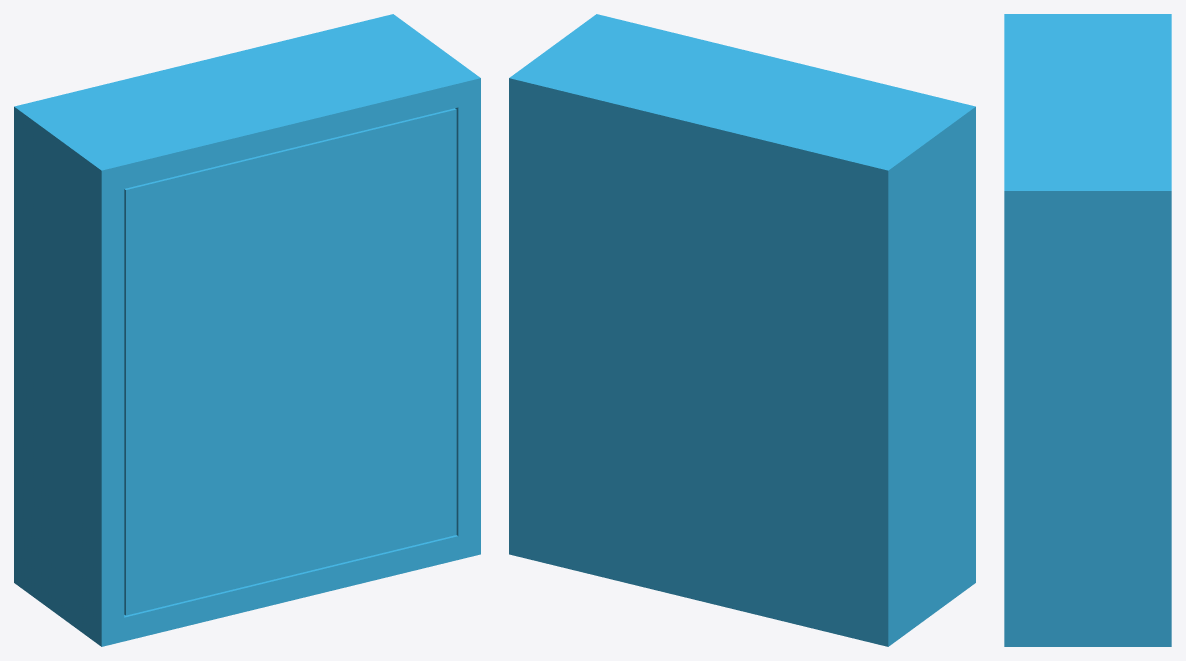
3 views of the same model, side by side, from view 1: azimuth 30°, elevation 25°; view 2: azimuth 150°, elevation 25°; view 3: azimuth 270°, elevation 25° (orthographic). The views are drawn at different scales.
Size of the model in its own units: 550 by 660 by 220.
